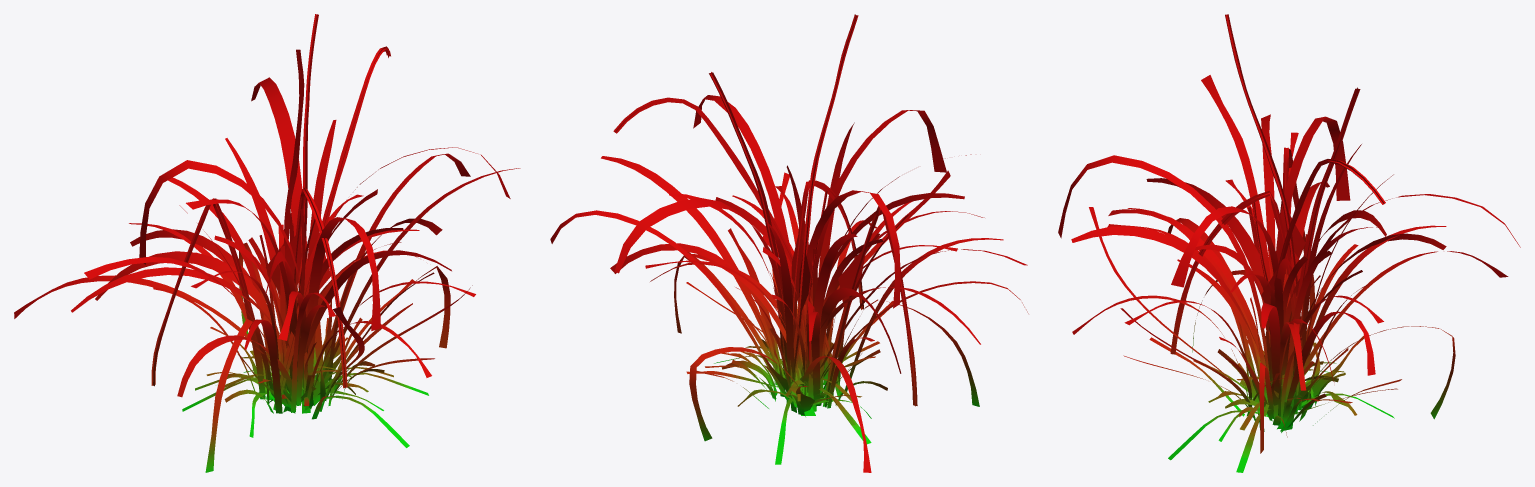
Rendered from Var1_LOD1.fbx.
3 views of the same model, side by side, from view 1: azimuth 30°, elevation 25°; view 2: azimuth 150°, elevation 25°; view 3: azimuth 270°, elevation 25° (orthographic). The views are drawn at different scales.
Visible parts, largest first — view 1: _03r9_Var1_LOD1; view 2: _03r9_Var1_LOD1; view 3: _03r9_Var1_LOD1.
Boxes of the visible parts, bbox=[...] form: _03r9_Var1_LOD1: bbox=[14, 14, 520, 472]; _03r9_Var1_LOD1: bbox=[550, 14, 1028, 472]; _03r9_Var1_LOD1: bbox=[1058, 14, 1520, 472].
Size of the model in its own units: 122 by 106 by 110.
